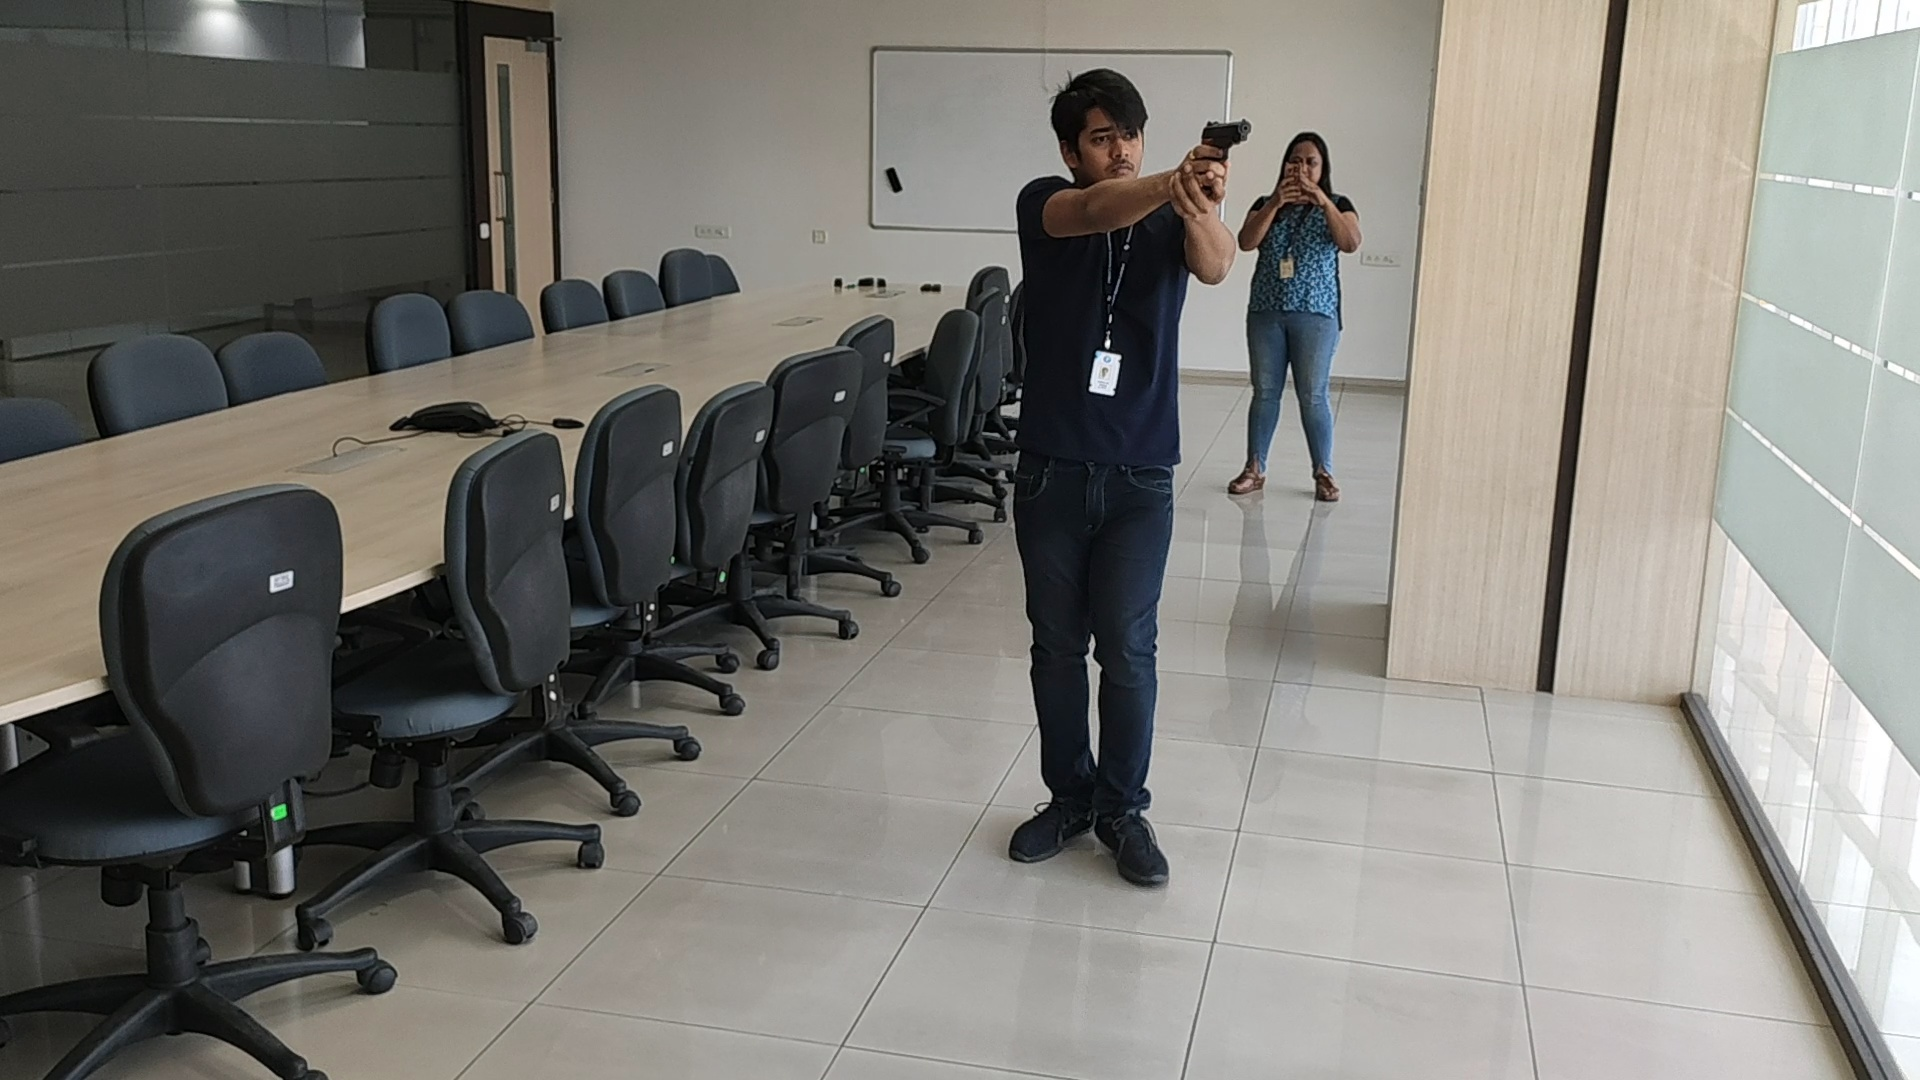gun: (1199, 119, 1255, 162)
